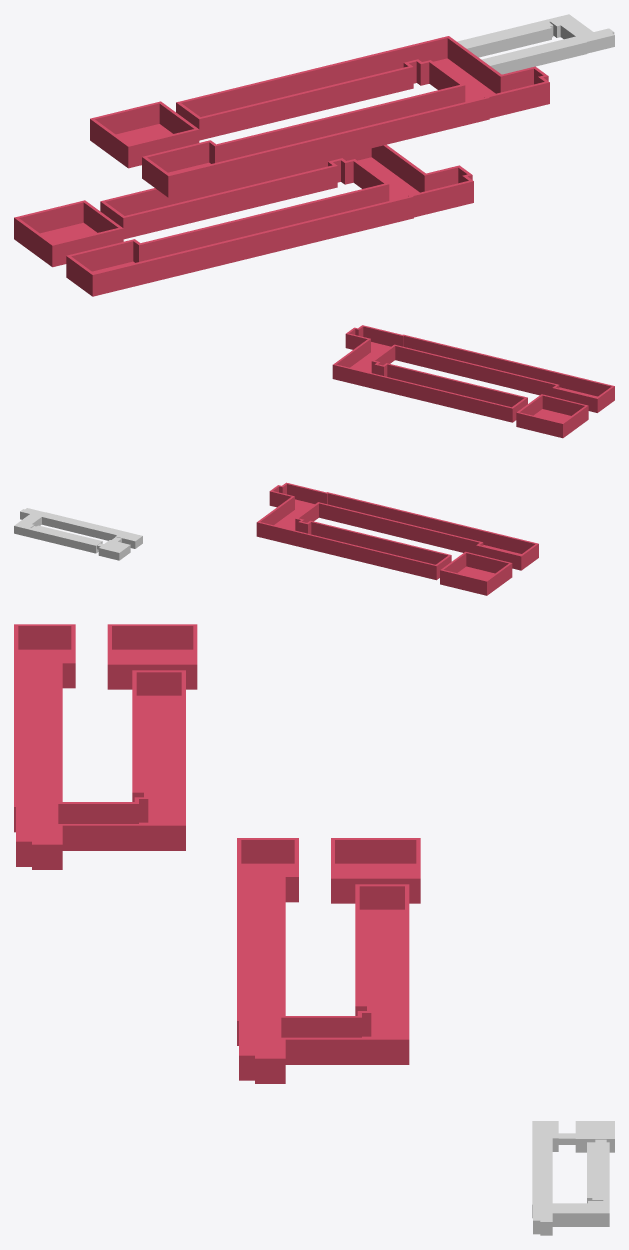
File: qqqqwe.glb
The picture shows the model from 3 angles, top to bottom: view 1: azimuth 30°, elevation 25°; view 2: azimuth 150°, elevation 25°; view 3: azimuth 270°, elevation 25°; orthographic projection. The views are drawn at different scales.
Visible parts, largest first — view 1: F2, F1, Cube; view 2: F2, F1, Cube; view 3: F1, F2, Cube.
Boxes of the visible parts, x1=… form: F2: x1=90, y1=36, x2=549, y2=197; F1: x1=14, y1=144, x2=473, y2=296; Cube: x1=457, y1=14, x2=614, y2=74; F2: x1=332, y1=325, x2=614, y2=438; F1: x1=256, y1=482, x2=538, y2=595; Cube: x1=14, y1=508, x2=142, y2=560; F1: x1=237, y1=838, x2=420, y2=1083; F2: x1=14, y1=624, x2=197, y2=869; Cube: x1=532, y1=1121, x2=614, y2=1235.
Bounding box in the file's own units: 17.93 × 5.02 × 11.92.
